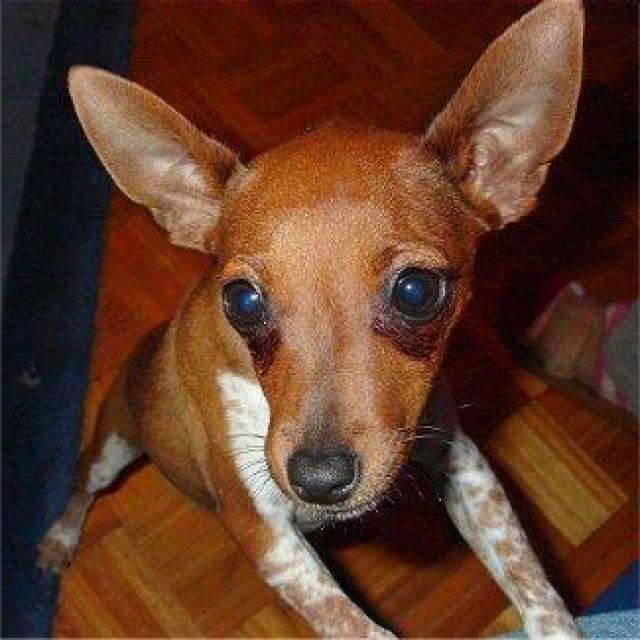toy_terrier: (55, 4, 593, 638)
